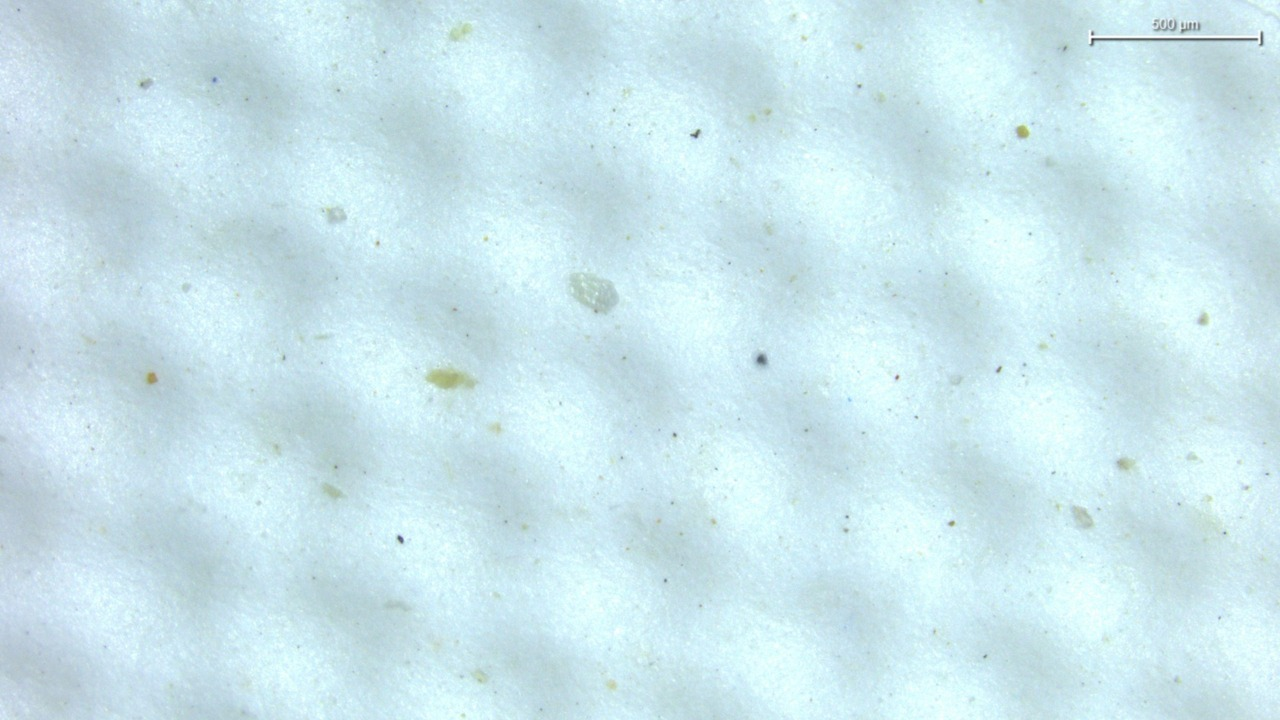microplastic_fragment: (569, 273, 618, 312)
